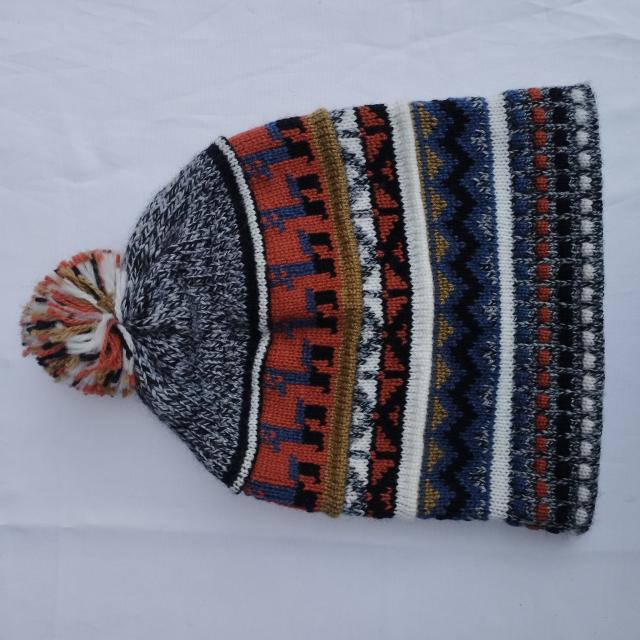Gorro: (20, 82, 607, 536)
